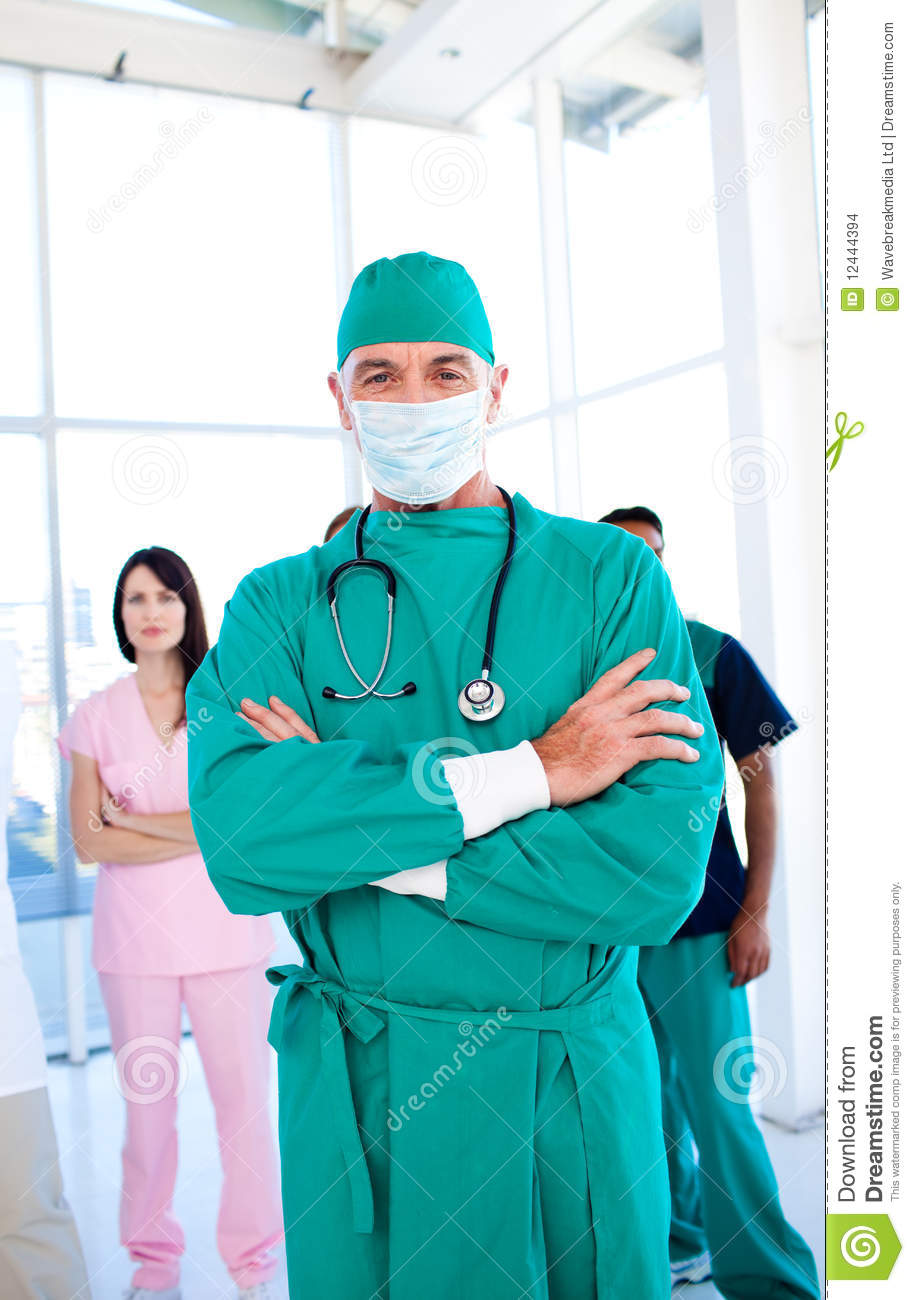mask: (345, 403, 497, 509)
